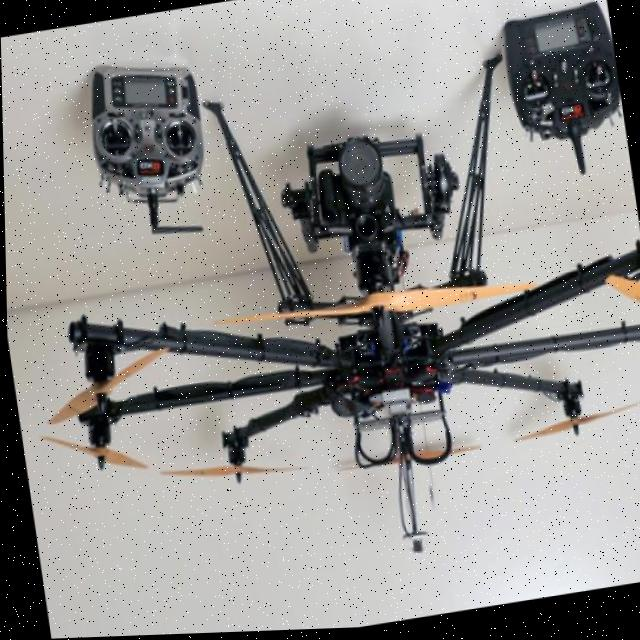drones: (1, 13, 640, 618)
